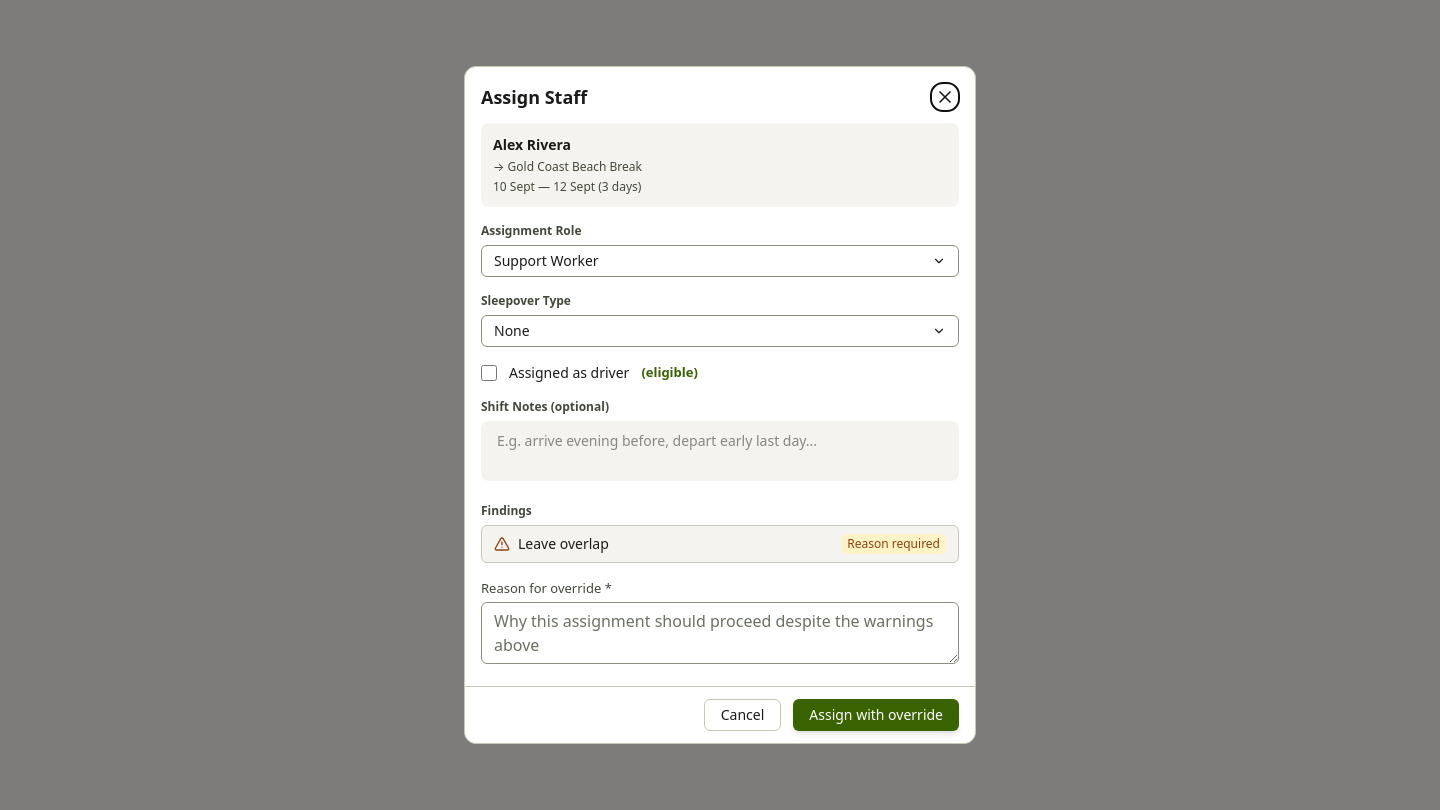
Scenario: StaffAssignModal — live conflict check (trip-side parity) › requires a non-empty override reason before submitting when a finding requires one
Expected: the text "Leave overlap" is shown, [518, 534, 609, 554]
Expected: the text "a reason is required to save over the warnings marked" is not shown
What coordinates should you click on to do the following:
click the button "Assign with override"
I would click on:
 (876, 715)
Its box is [793, 699, 959, 731].
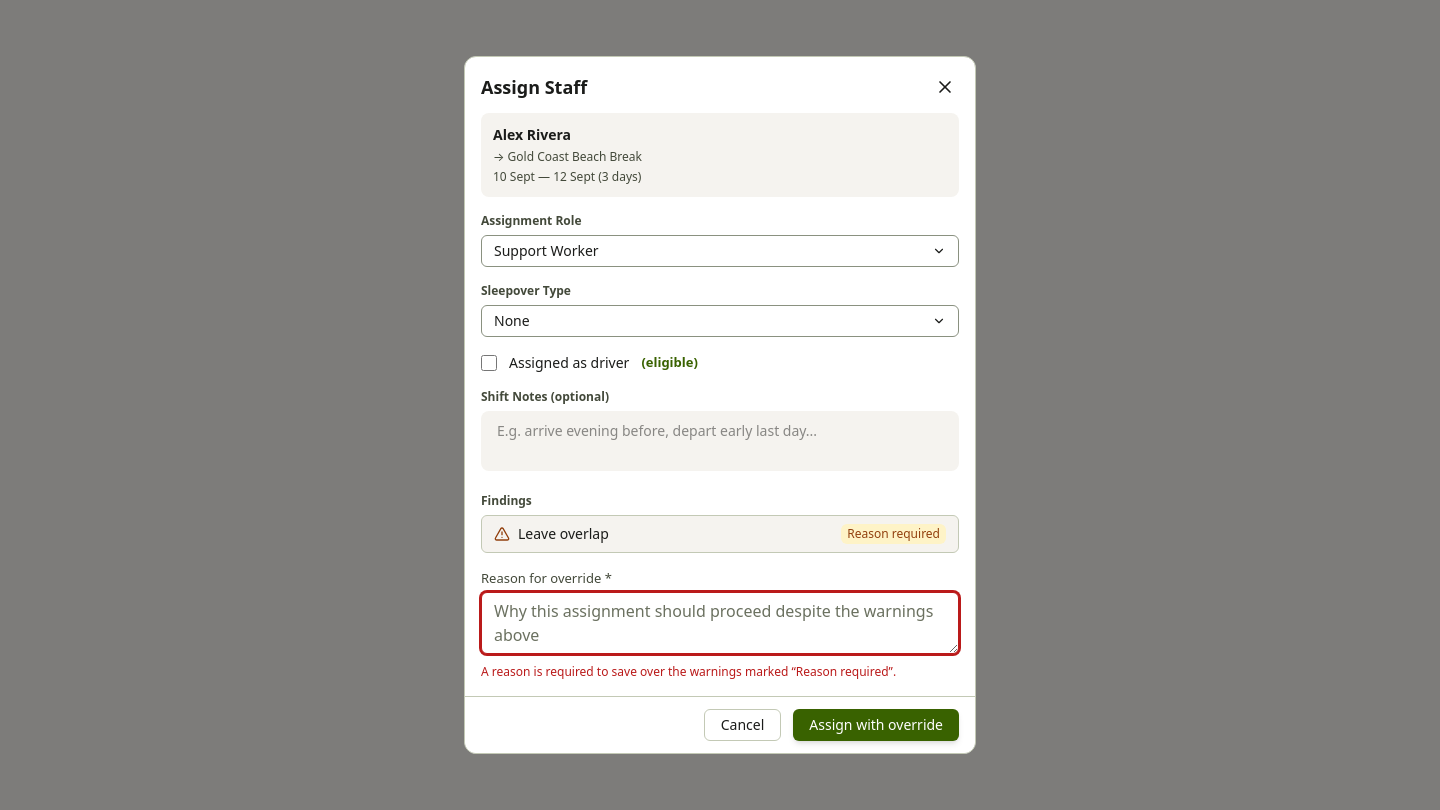
Expected: the text "A reason is required to save over the warnings marked “Reason required”." is shown, [481, 664, 959, 680]
